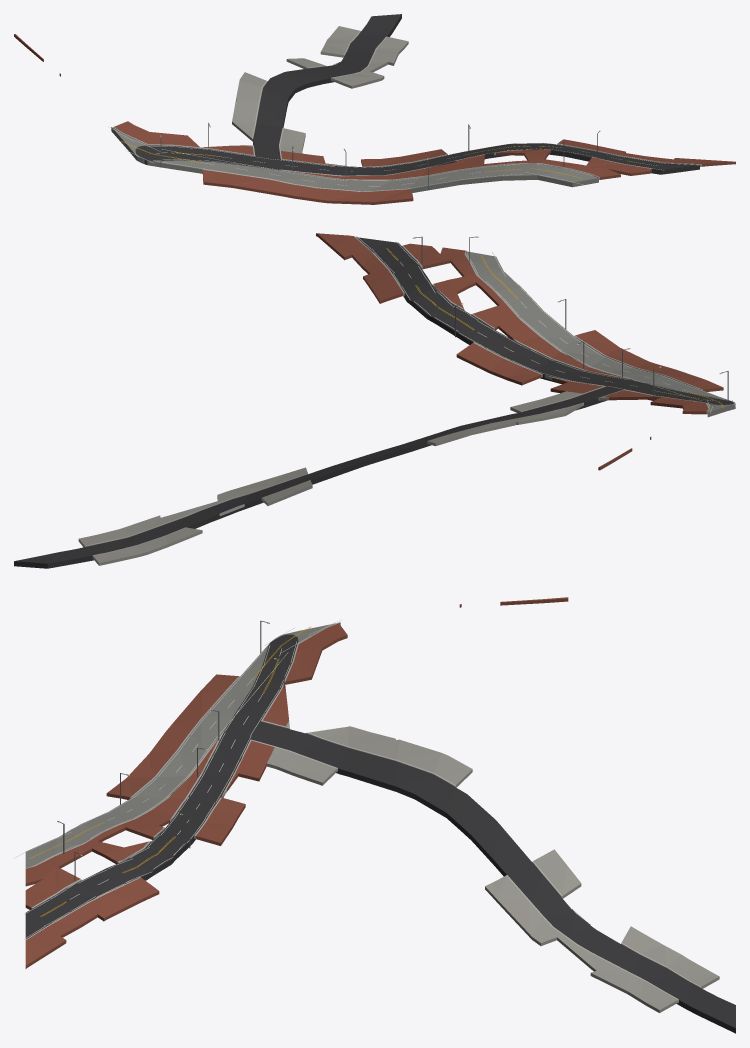
File: 18-218920-118955.c88befa6.glb
3 renders of one model, top to bottom at view 1: azimuth 30°, elevation 25°; view 2: azimuth 150°, elevation 25°; view 3: azimuth 270°, elevation 25°, orthographic. The views are drawn at different scales.
Bounding box in the file's own units: 137 × 39.49 × 148.
